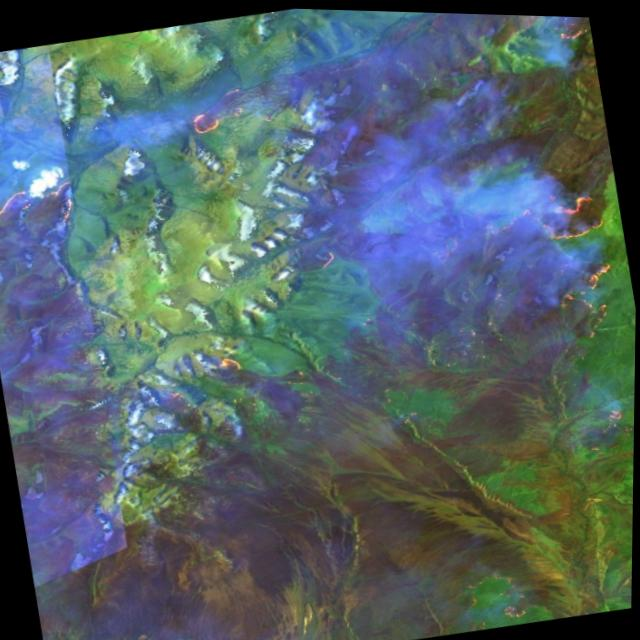fire: (504, 173, 635, 353), (0, 174, 82, 251), (174, 95, 246, 153), (209, 343, 254, 380)
